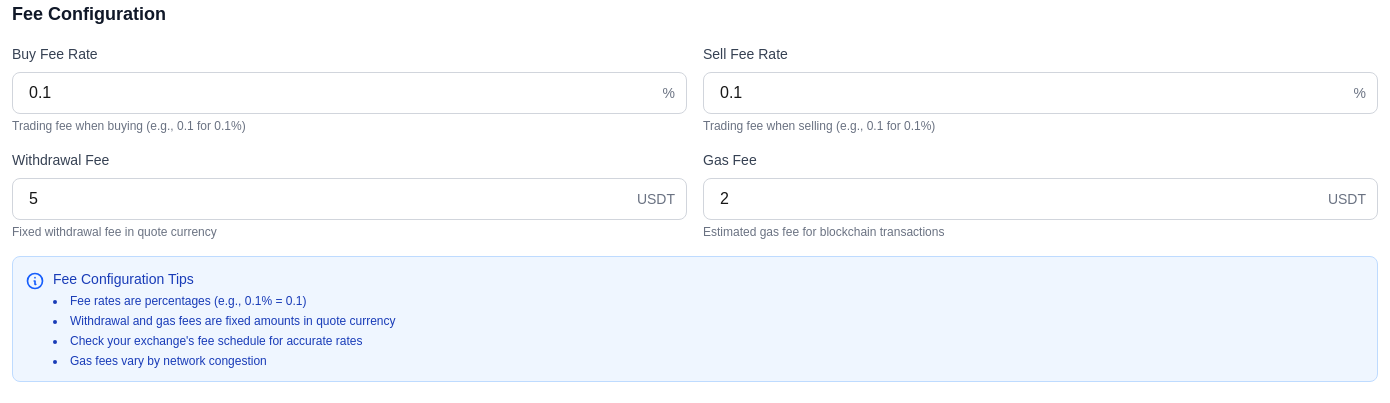
Test case: FeeConfigForm Component › Buy Fee Rate Input › should cap at 100%
The width and height of the screenshot is (1390, 403).
Type "150" into the field labelled "Buy Fee Rate".
click(350, 93); type("150")  # box [12,72,687,114]
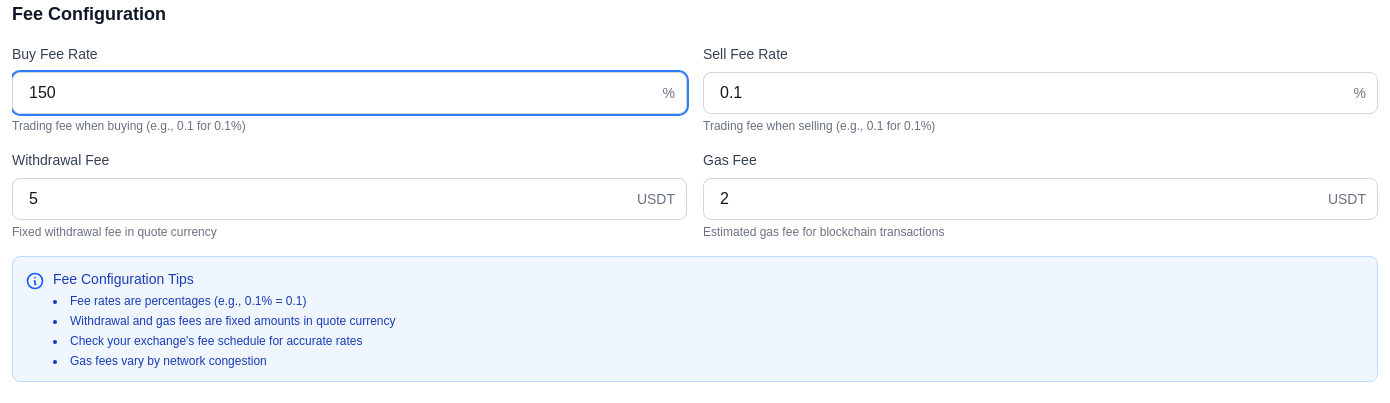
// Trigger blur to validate
Press Tab
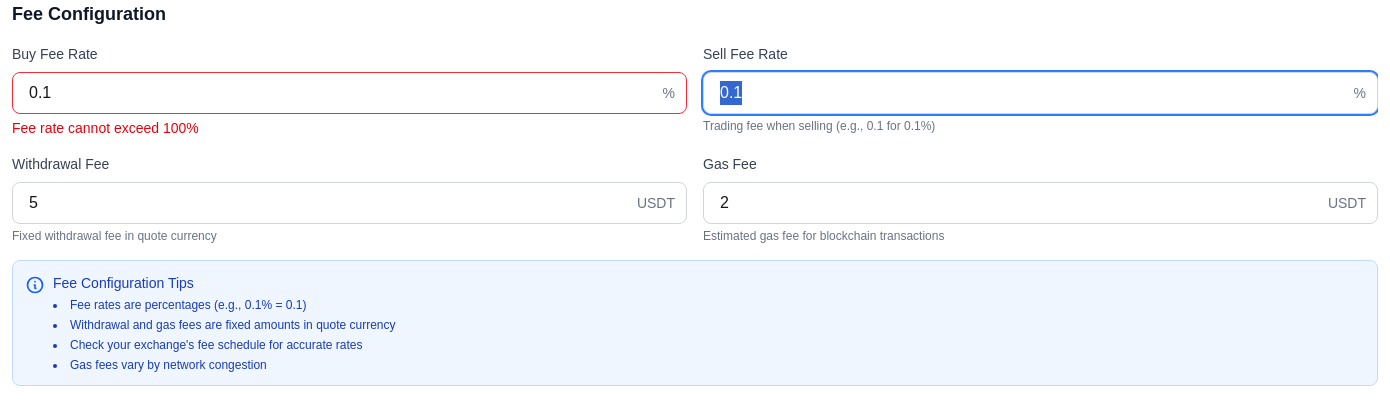
Now the text "Fee rate cannot exceed 100%" is shown, box [12,120,199,136]
Now the field labelled "Buy Fee Rate" does not hold "150", box [12,72,687,114]
